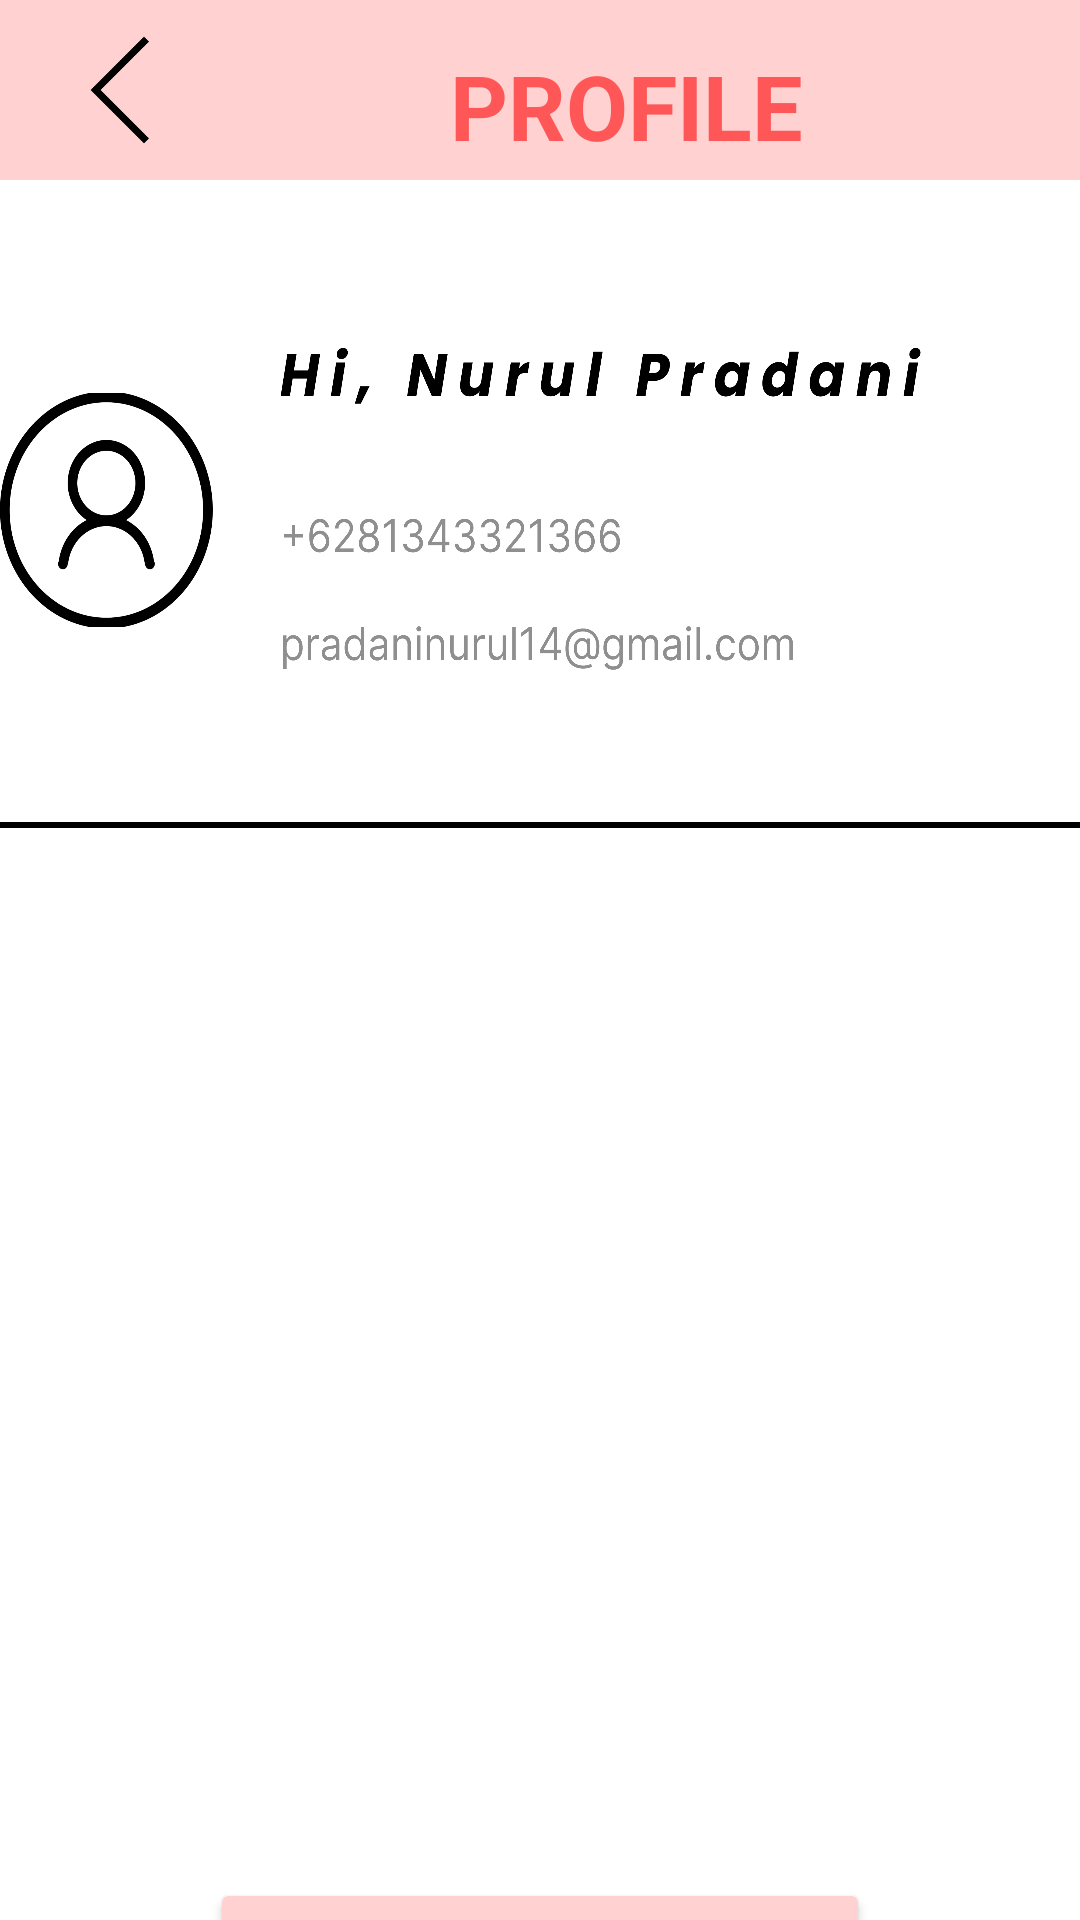

Icon bounding boxes for this 1080 × 1920 phone screenshot, format (x1, y1, x2, y2):
backk: (91, 37, 149, 143)
